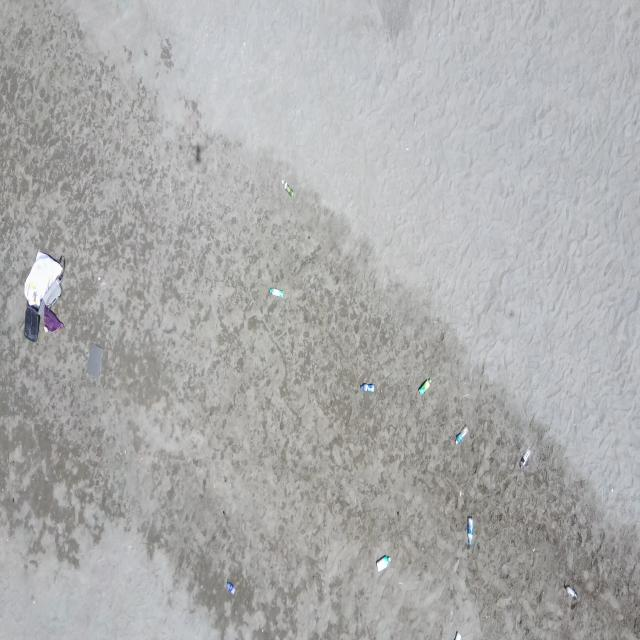plastic-bottle: (374, 554, 392, 573), (417, 378, 433, 398), (454, 425, 468, 446), (519, 447, 531, 470), (282, 179, 295, 199), (467, 515, 475, 546), (565, 585, 579, 600), (269, 285, 284, 298), (360, 382, 375, 394), (226, 582, 235, 596), (455, 630, 464, 640)
